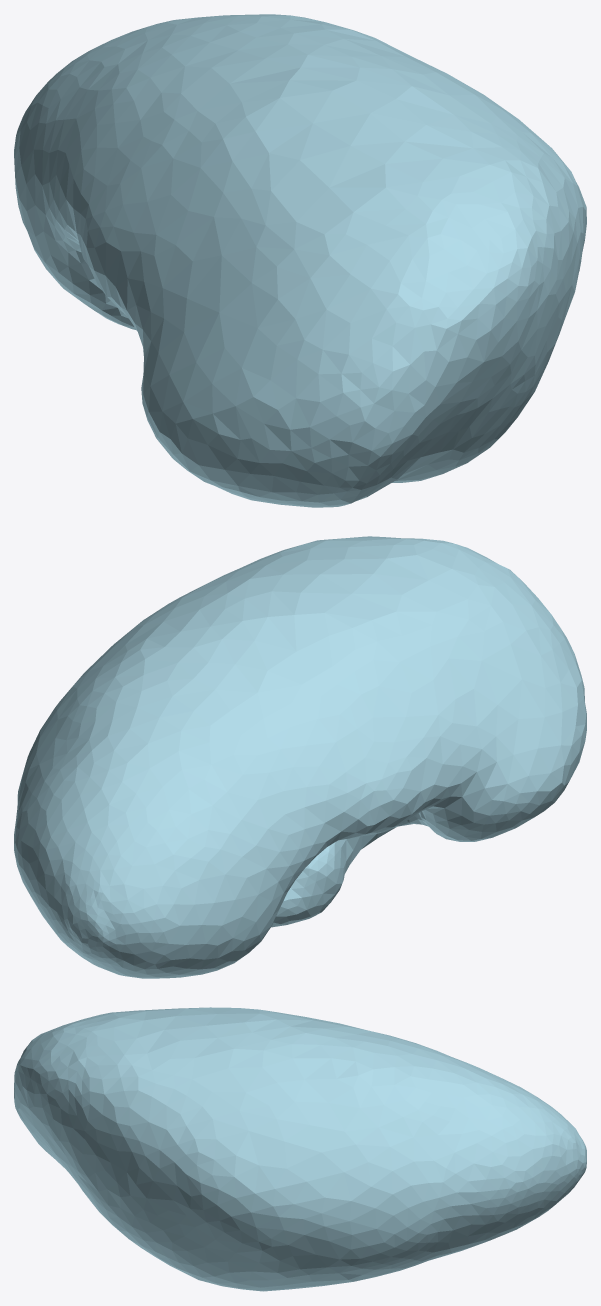
The model's file is leftkidney.obj.
3 renders of one model, top to bottom at view 1: azimuth 30°, elevation 25°; view 2: azimuth 150°, elevation 25°; view 3: azimuth 270°, elevation 25°, orthographic. The views are drawn at different scales.
Visible parts, largest first — view 1: grp1; view 2: grp1; view 3: grp1.
Boxes of the visible parts, x1,y1,x2,y2 form: grp1: [14, 14, 586, 507]; grp1: [14, 536, 586, 978]; grp1: [14, 1007, 586, 1291].
Size of the model in its own units: 66.87 by 51.59 by 107.
